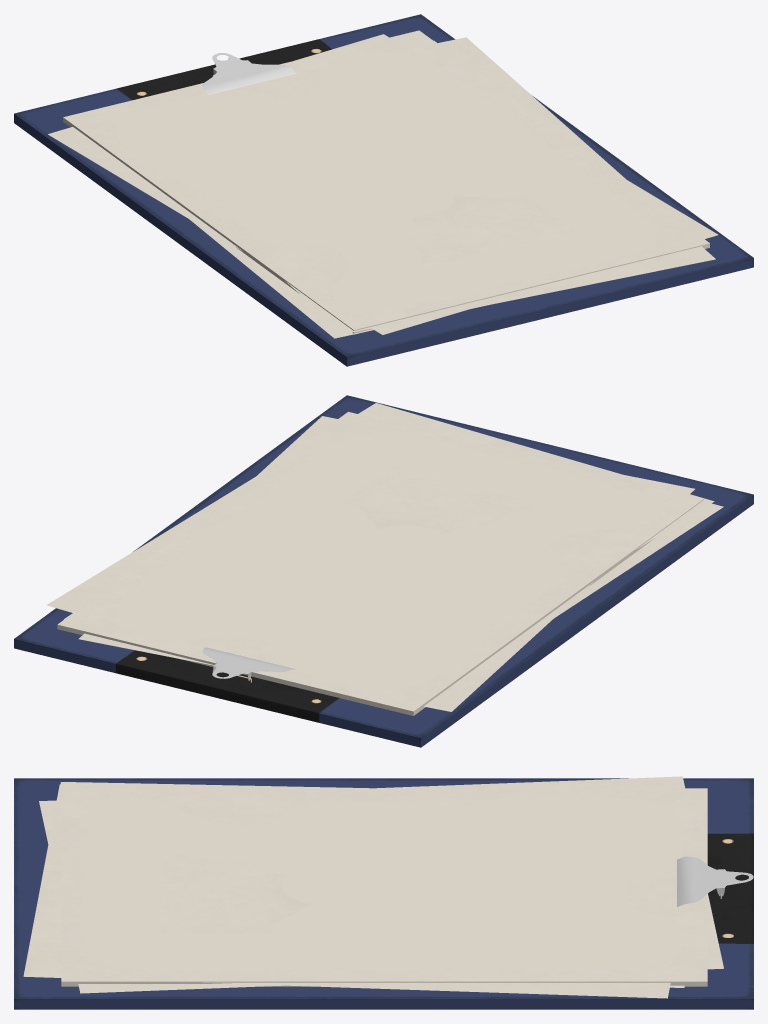
3 renders of one model, top to bottom at view 1: azimuth 30°, elevation 25°; view 2: azimuth 150°, elevation 25°; view 3: azimuth 270°, elevation 25°, orthographic. The views are drawn at different scales.
Parts seen in each view (by area): view 1: Clipboard_low; view 2: Clipboard_low; view 3: Clipboard_low.
Boxes of the visible parts, x1,y1,x2,y2 form: Clipboard_low: [14, 14, 753, 366]; Clipboard_low: [14, 395, 753, 747]; Clipboard_low: [14, 776, 753, 1009].
Size of the model in its own units: 0.2439 by 0.0112 by 0.34.
1 material, 1 textured.
